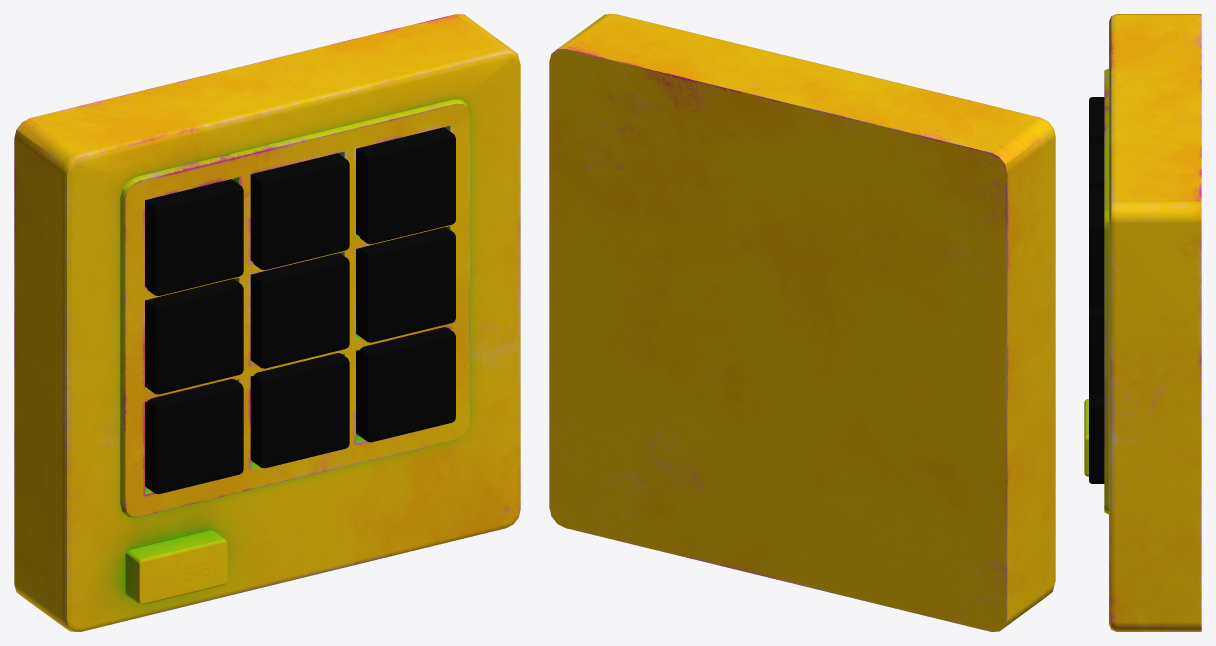
The model's file is keypad.glb.
3 views of the same model, side by side, from view 1: azimuth 30°, elevation 25°; view 2: azimuth 150°, elevation 25°; view 3: azimuth 270°, elevation 25° (orthographic). The views are drawn at different scales.
Visible parts, largest first — view 1: security_keypad_button.002; view 2: security_keypad_button.002; view 3: security_keypad_button.002.
Boxes of the visible parts, bbox=[...] form: security_keypad_button.002: bbox=[14, 14, 520, 631]; security_keypad_button.002: bbox=[549, 14, 1055, 631]; security_keypad_button.002: bbox=[1084, 14, 1201, 631].
Bounding box in the file's own units: 0.4055 × 0.4055 × 0.1005.
10 materials, 1 textured.
